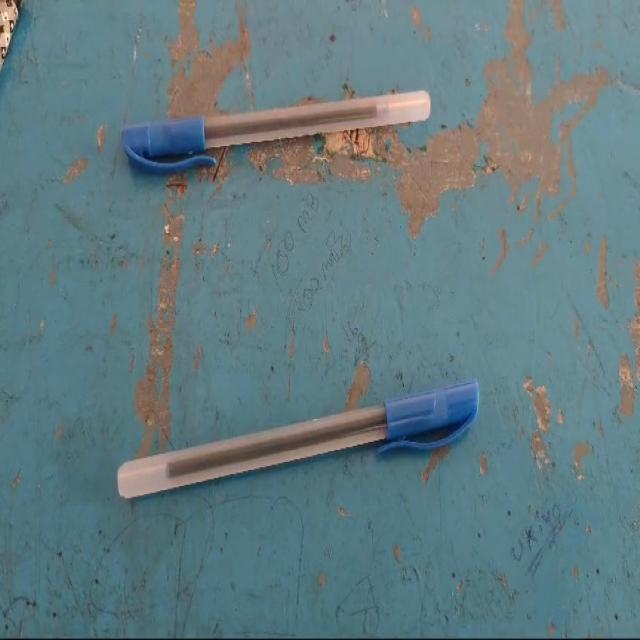pen: (81, 343, 508, 542), (72, 62, 469, 230)
